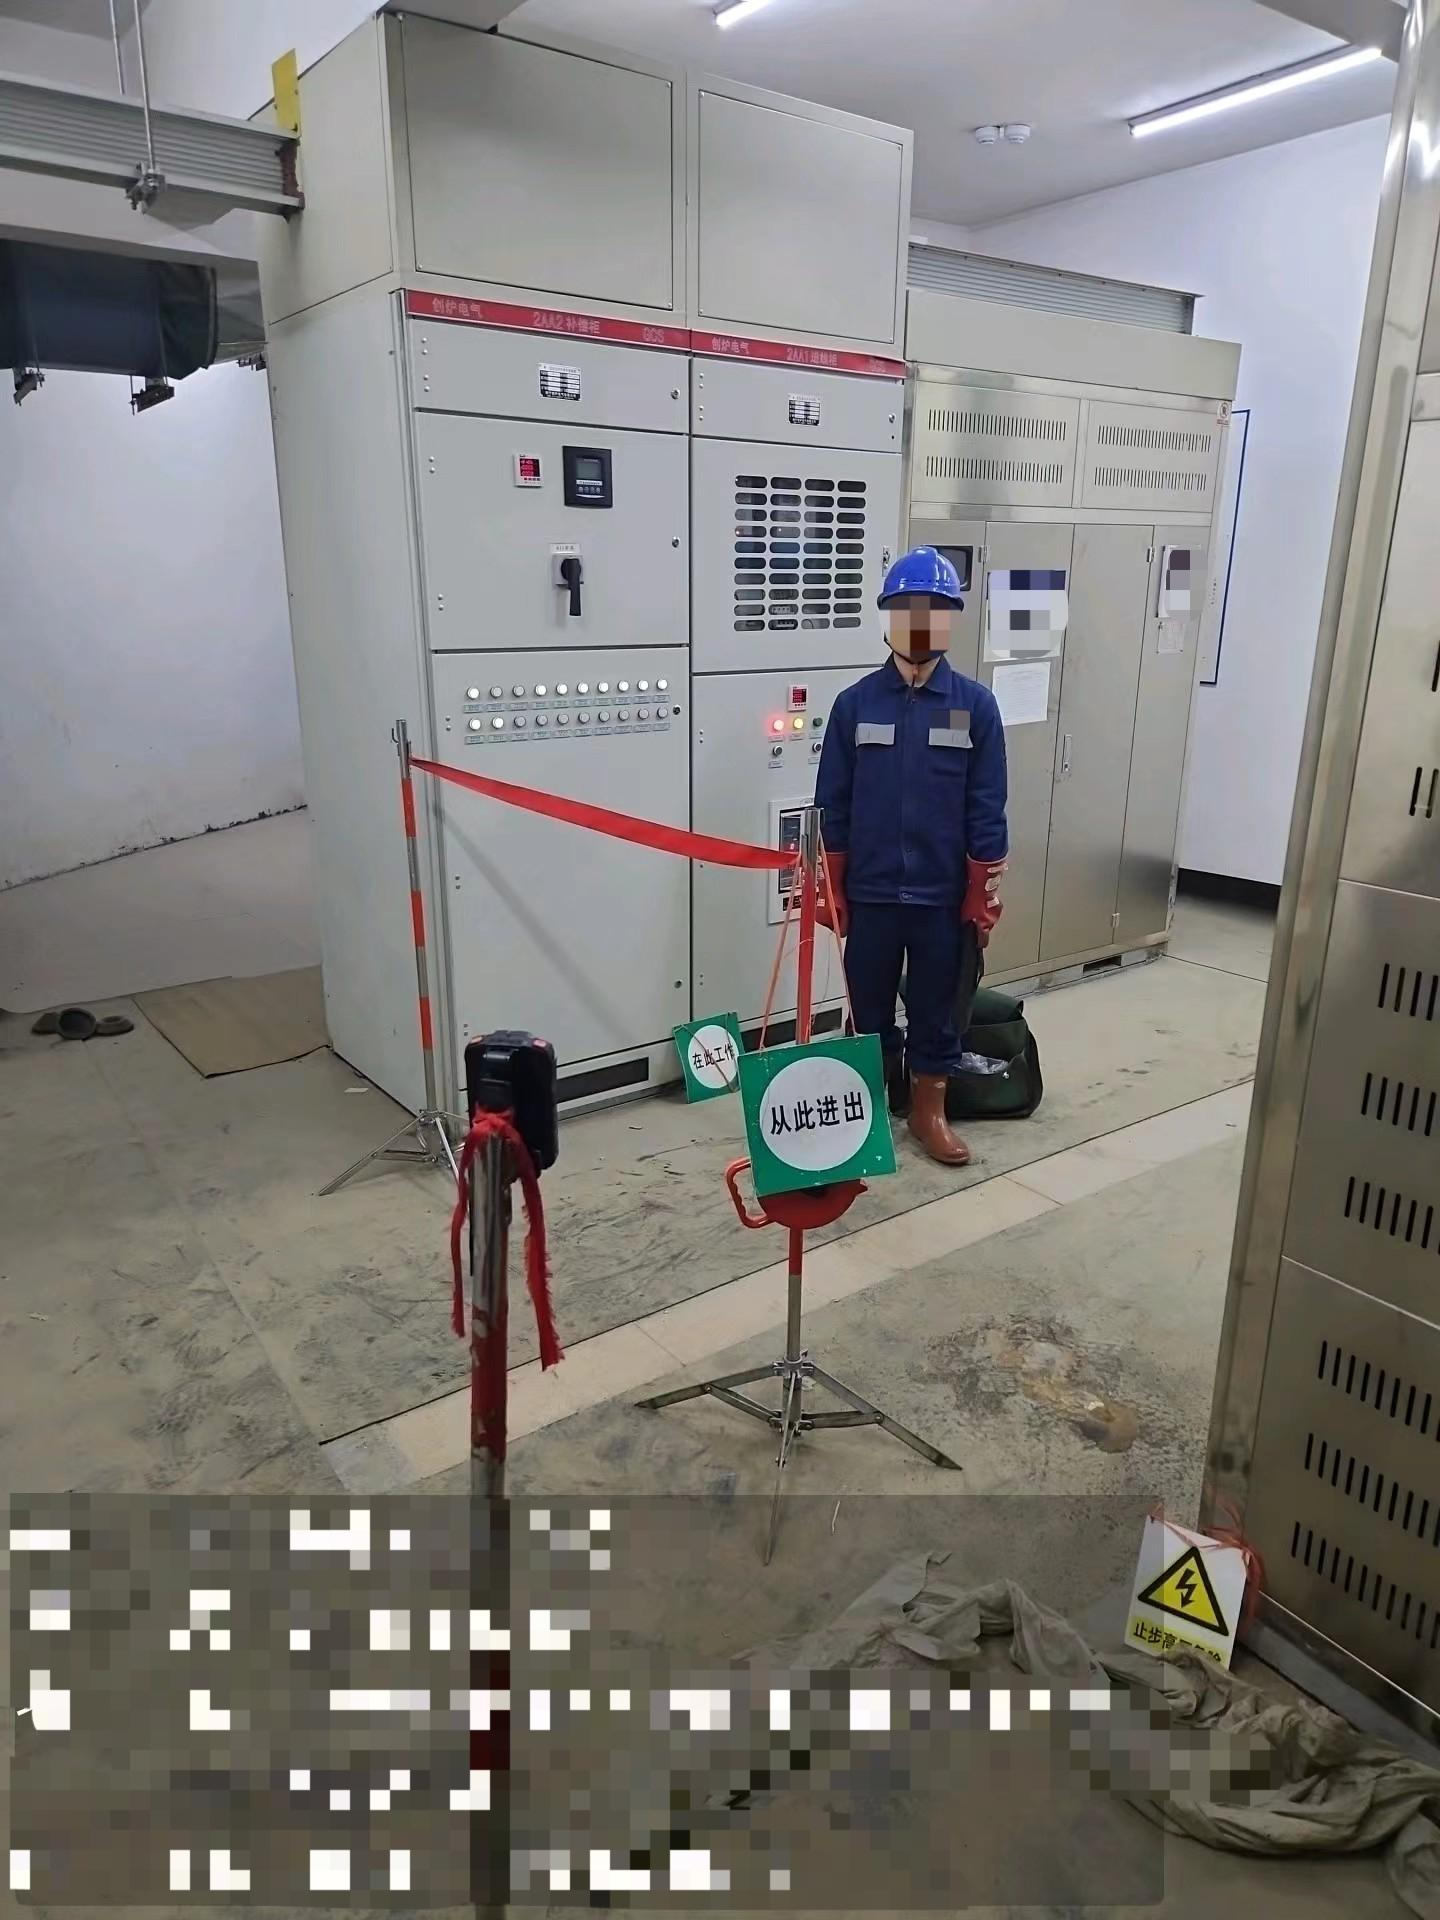halt: (877, 547, 970, 668)
